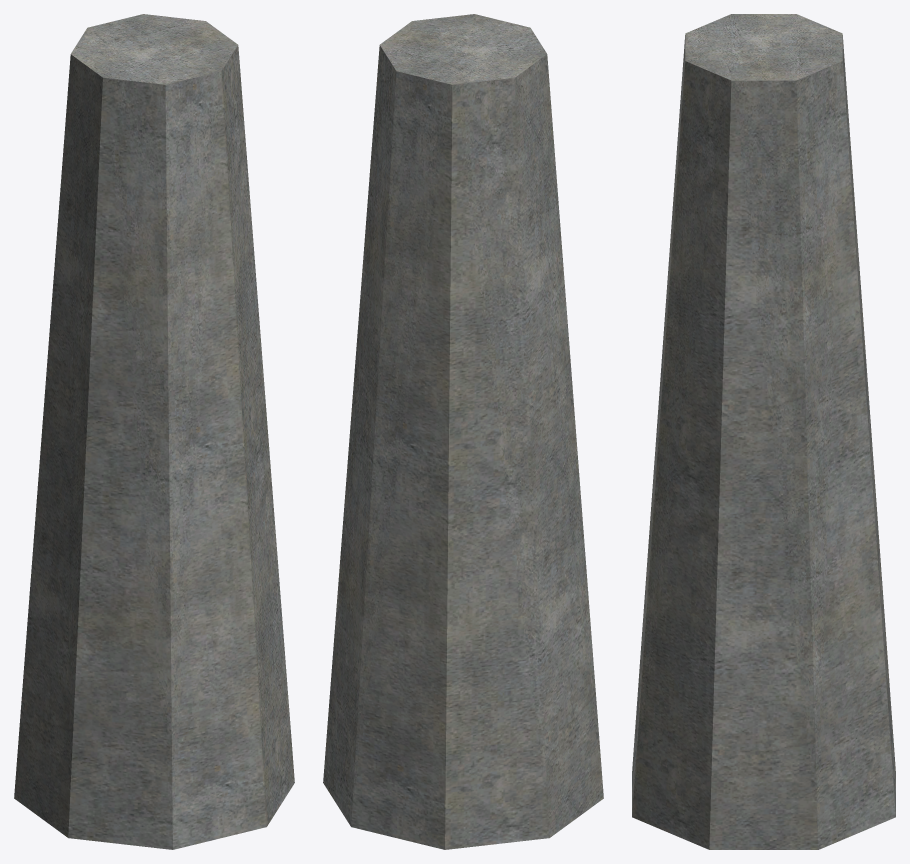
File: mun_all_military_column_weak_impl_s01_l1.fbx
3 views of the same model, side by side, from view 1: azimuth 30°, elevation 25°; view 2: azimuth 150°, elevation 25°; view 3: azimuth 270°, elevation 25° (orthographic).
Parts seen in each view (by area): view 1: mesh_node; view 2: mesh_node; view 3: mesh_node.
Part boxes in pixels (bbox=[...]): mesh_node: bbox=[14, 14, 294, 849]; mesh_node: bbox=[323, 14, 603, 849]; mesh_node: bbox=[632, 14, 895, 849].
Size of the model in its own units: 2 by 6.25 by 2.
